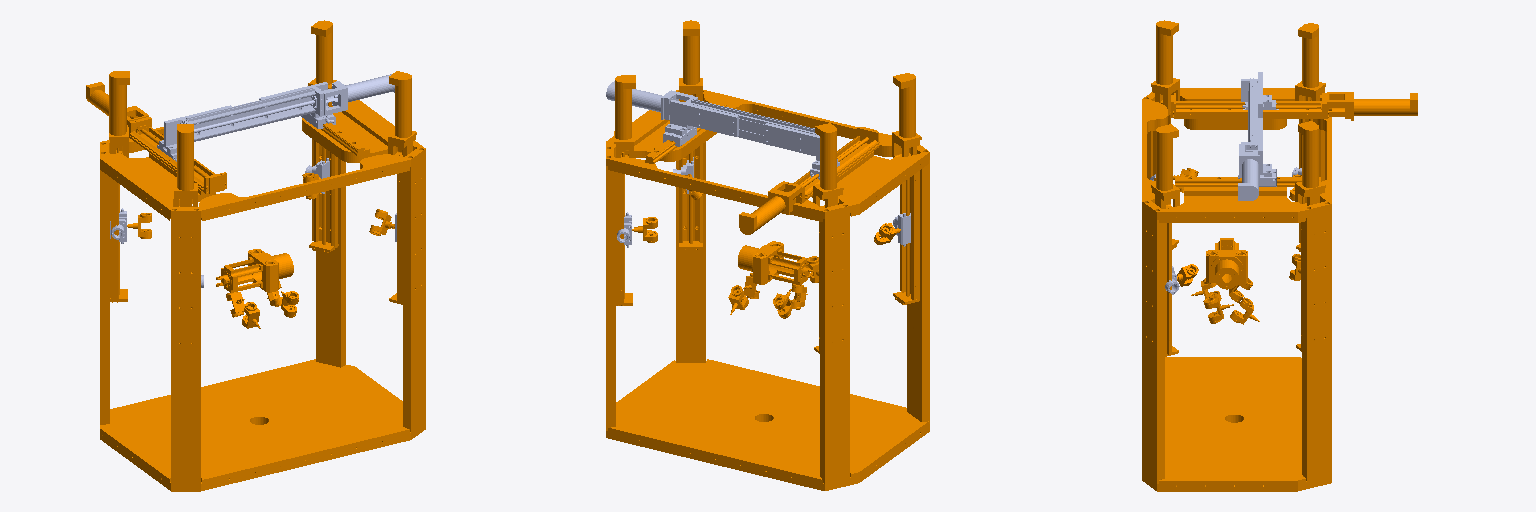
--- What the picture shows (computed from the rendered views, not written in the file) ---
3 views of the same robot in one strip: view 1: azimuth 30°, elevation 25°; view 2: azimuth 150°, elevation 25°; view 3: azimuth 270°, elevation 25° (orthographic).
Model Faraday with 29 links and 28 joints (10 revolute, 8 continuous, 7 prismatic, 3 fixed), rooted at world, posed all joints at 0.
Links seen in each view (by area): view 1: base_link, limb5_link1, limb5_link5; view 2: base_link, limb5_link1, limb5_link5; view 3: base_link, limb5_link1, limb5_link5.
Link boxes in pixels (x1,y1,x2,y2): base_link: (86, 20, 425, 491); limb5_link1: (157, 74, 394, 161); limb5_link5: (216, 249, 293, 292); base_link: (606, 20, 929, 490); limb5_link1: (606, 81, 839, 179); limb5_link5: (738, 241, 812, 284); base_link: (1142, 20, 1417, 491); limb5_link1: (1238, 72, 1278, 200); limb5_link5: (1206, 238, 1247, 289).
Bounding box of the posed robot: 0.6476 × 0.5666 × 0.8006 m (x, y, z).
15 mesh visuals loaded from 12 distinct referenced files (6 binary STL); not drawn: 12 (reference not matched to a file when rendering).

URDF robot description (Faraday):
<?xml version="1.0" ?>
<robot
  name="Faraday">

  <link name="world" />

  <joint name="world_to_base_link" type="fixed">
    <parent link="world"/>
    <child link="base_link"/>
    <origin xyz="0 -0.01553 0.604" rpy="3.141592654 0 0"/>
  </joint>

  <link
    name="base_link">
    <inertial>
      <origin
        xyz="-0.0065986 -0.032962 0.49853"
        rpy="0 0 0" />
      <mass
        value="12.551" />
      <inertia
        ixx="5.8372"
        ixy="-0.020361"
        ixz="-0.034318"
        iyy="6.0197"
        iyz="0.0069877"
        izz="0.44893" />
    </inertial>
    <visual>
      <origin
        xyz="0 0 0"
        rpy="0 0 0" />
      <geometry>
        <mesh
          filename="package://faraday_support/meshes/base_link.STL" />
      </geometry>
      <material
        name="">
        <color
          rgba="1 0.6 0 1" />
      </material>
    </visual>
    <collision>
      <origin
        xyz="0 0 0"
        rpy="0 0 0" />
      <geometry>
        <mesh
          filename="package://faraday_support/meshes/base_link.STL" />
      </geometry>
    </collision>
  </link>

<!-- !!!!!!!!!!!!!!!!!!!!!!!!!!!the limb1!!!!!!!!!!!!!!!!!!!!!!!!!!! -->
  <joint
    name="limb1_link1_joint"
    type="prismatic">
    <origin
      xyz="256.999999E-03 128.293085E-03 147.144575E-03"
      rpy="0 0 -0.523598775598299" />
    <parent
      link="base_link" />
    <child
      link="limb1_link1" />
    <axis
      xyz="0 0 1" />
    <limit
      lower="-116.3446E-03"
      upper="112.0554E-03"
      effort="0"
      velocity="0" />
  </joint>

  <link
    name="limb1_link1">
    <inertial>
      <origin
        xyz="-0.030335230E-03 -5.384161855E-03 0.114498889E-03"
        rpy="0 0 0" />
      <mass
        value="0.317239094" />
      <inertia
        ixx="122.332939099E-06"
        ixy="0.005927642E-06"
        ixz="-0.325801595E-06"
        iyy="127.383902955E-06"
        iyz="-0.022373613E-06"
        izz="61.480921161E-06" />
    </inertial>
    <visual>
      <origin
        xyz="0 0 0"
        rpy="0 0 0" />
      <geometry>
        <mesh
          filename="package://faraday_support/meshes/limb1_link1.STL" />
      </geometry>
      <material
        name="">
        <color
          rgba="0.79216 0.81961 0.93333 1" />
      </material>
    </visual>
    <collision>
      <origin
        xyz="0 0 0"
        rpy="0 0 0" />
      <geometry>
        <mesh
          filename="package://faraday_support/meshes/limb1_link1.STL" />
      </geometry>
    </collision>
  </link>

  <joint
    name="limb1_link2_joint"
    type="continuous">
    <origin
      xyz="0 -58.0E-03 0"
      rpy="-1.570796326794897 -0.896668139199843 3.141592653589793" />
    <parent
      link="limb1_link1" />
    <child
      link="limb1_link2" />
    <axis
      xyz="0 0 1" />
  </joint>

  <link
    name="limb1_link2">
    <inertial>
      <origin
        xyz="0 0 -7.175692738E-03"
        rpy="0 0 0" />
      <mass
        value="0.063268400" />
      <inertia
        ixx="20.615640235E-06"
        ixy="0"
        ixz="0"
        iyy="10.070601654E-06"
        iyz="0"
        izz="15.963087509E-06" />
    </inertial>
    <visual>
      <origin
        xyz="0 0 0"
        rpy="0 0 0" />
      <geometry>
        <mesh
          filename="package://faraday_support/meshes/limb1_link2.STL" />
      </geometry>
      <material
        name="">
        <color
          rgba="1 0.6 0 1" />
      </material>
    </visual>
    <collision>
      <origin
        xyz="0 0 0"
        rpy="0 0 0" />
      <geometry>
        <mesh
          filename="package://faraday_support/meshes/limb1_link2.STL" />
      </geometry>
    </collision>
  </link>

  <joint
    name="limb1_link3_joint"
    type="revolute">
    <origin
      xyz="0 0 0"
      rpy="-1.570796326794897 -1.011023857119764 3.141592653589793" />
    <parent
      link="limb1_link2" />
    <child
      link="limb1_link3" />
    <axis
      xyz="0 0 1" />
    <limit
      lower="-1.57"
      upper="1.57"
      effort="0"
      velocity="0" />
  </joint>

  <link
    name="limb1_link3">
    <inertial>
      <origin
        xyz="0 -101.508543691E-03 0"
        rpy="0 0 0" />
      <mass
        value="0.048981588" />
      <inertia
        ixx="283.193897053E-06"
        ixy="0"
        ixz="0"
        iyy="0.978504361E-06"
        iyz="0"
        izz="282.792129790E-06" />
    </inertial>
    <visual>
      <origin
        xyz="0 0 0"
        rpy="0 0 0" />
      <geometry>
        <mesh
          filename="package://faraday_support/meshes/limb1_link3.STL" />
      </geometry>
      <material
        name="">
        <color
          rgba="0.807843137254902 0.843137254901961 0.905882352941176 1" />
      </material>
    </visual>
    <collision>
      <origin
        xyz="0 0 0"
        rpy="0 0 0" />
      <geometry>
        <mesh
          filename="package://faraday_support/meshes/limb1_link3.STL" />
      </geometry>
    </collision>
  </link> 

  <joint
    name="limb1_link4_joint"
    type="continuous">
    <origin
      xyz="0 -246.0E-03 0"
      rpy="1.570796326794897 1.371521614119192 0" />
    <parent
      link="limb1_link3" />
    <child
      link="limb1_link4" />
    <axis
      xyz="0 0 1" />
  </joint>

  <link
    name="limb1_link4">
    <inertial>
      <origin
        xyz="0 0 -28.989992853E-03"
        rpy="0 0 0" />
      <mass
        value="0.043557642" />
      <inertia
        ixx="16.645965669E-06"
        ixy="0"
        ixz="0"
        iyy="16.244198406E-06"
        iyz="0"
        izz="2.976607171E-06" />
    </inertial>
    <visual>
      <origin
        xyz="0 0 0"
        rpy="0 0 0" />
      <geometry>
        <mesh
          filename="package://faraday_support/meshes/limb1_link4.STL" />
      </geometry>
      <material
        name="">
        <color
          rgba="0.807843137254902 0.843137254901961 0.905882352941176 1" />
      </material>
    </visual>
    <collision>
      <origin
        xyz="0 0 0"
        rpy="0 0 0" />
      <geometry>
        <mesh
          filename="package://faraday_support/meshes/limb1_link4.STL" />
      </geometry>
    </collision>
  </link>

  <joint
    name="limb1_link5_joint"
    type="revolute">
    <origin
      xyz="0 0 0"
      rpy="1.570796326794897 0.761825746520013 0" />
    <parent
      link="limb1_link4" />
    <child
      link="limb1_link5" />
    <axis
      xyz="0 0 1" />
    <limit
      lower="-1.57"
      upper="3.14"
      effort="0"
      velocity="0" />
  </joint>

  <link
    name="limb1_link5">
    <inertial>
      <origin
        xyz="0 5.927141064E-03 0"
        rpy="0 0 0" />
      <mass
        value="0.059458429" />
      <inertia
        ixx="18.846035620E-06"
        ixy="0"
        ixz="0"
        iyy="15.857290969E-06"
        iyz="0"
        izz="8.300960836E-06" />
    </inertial>
    <visual>
      <origin
        xyz="0 0 0"
        rpy="0 0 0" />
      <geometry>
        <mesh
          filename="package://faraday_support/meshes/limb1_link5.STL" />
      </geometry>
      <material
        name="">
        <color
          rgba="1 0.6 0 1" />
      </material>
    </visual>
    <collision>
      <origin
        xyz="0 0 0"
        rpy="0 0 0" />
      <geometry>
        <mesh
          filename="package://faraday_support/meshes/limb1_link5.STL" />
      </geometry>
    </collision>
  </link>


<!-- !!!!!!!!!!!!!!!!!!!!!!!!!!!the limb2!!!!!!!!!!!!!!!!!!!!!!!!!!! -->
  <joint
    name="limb2_link1_joint"
    type="prismatic">
    <origin
      xyz="243.823085E-03 -172.53E-03 145.659457E-03"
      rpy="0 0 -2.094395102393196" />
    <parent
      link="base_link" />
    <child
      link="limb2_link1" />
    <axis
      xyz="0 0 1" />
    <limit
      lower="-114.8595E-03"
      upper="123.5405E-03"
      effort="0"
      velocity="0" />
  </joint>

  <link
    name="limb2_link1">
    <inertial>
      <origin
        xyz="-0.030335230E-03 -5.384161855E-03 0.114498889E-03"
        rpy="0 0 0" />
      <mass
        value="0.317239094" />
      <inertia
        ixx="122.332939099E-06"
        ixy="0.005927642E-06"
        ixz="-0.325801595E-06"
        iyy="127.383902955E-06"
        iyz="-0.022373613E-06"
        izz="61.480921161E-06" />
    </inertial>
    <visual>
      <origin
        xyz="0 0 0"
        rpy="0 0 0" />
      <geometry>
        <mesh
          filename="package://faraday_support/meshes/limb1_link1.STL" />
      </geometry>
      <material
        name="">
        <color
          rgba="0.79216 0.81961 0.93333 1" />
      </material>
    </visual>
    <collision>
      <origin
        xyz="0 0 0"
        rpy="0 0 0" />
      <geometry>
        <mesh
          filename="package://faraday_support/meshes/limb1_link1.STL" />
      </geometry>
    </collision>
  </link>

  <joint
    name="limb2_link2_joint"
    type="continuous">
    <origin
      xyz="0 -58.0E-03 0"
      rpy="-1.570796326794897 -1.410784540972056 3.141592653589793" />
    <parent
      link="limb2_link1" />
    <child
      link="limb2_link2" />
    <axis
      xyz="0 0 1" />
  </joint>

  <link
    name="limb2_link2">
    <inertial>
      <origin
        xyz="0 0 -7.175692738E-03"
        rpy="0 0 0" />
      <mass
        value="0.063268400" />
      <inertia
        ixx="20.615640235E-06"
        ixy="0"
        ixz="0"
        iyy="10.070601654E-06"
        iyz="0"
        izz="15.963087509E-06" />
    </inertial>
    <visual>
      <origin
        xyz="0 0 0"
        rpy="0 0 0" />
      <geometry>
        <mesh
          filename="package://faraday_support/meshes/limb1_link2.STL" />
      </geometry>
      <material
        name="">
        <color
          rgba="1 0.6 0 1" />
      </material>
    </visual>
    <collision>
      <origin
        xyz="0 0 0"
        rpy="0 0 0" />
      <geometry>
        <mesh
          filename="package://faraday_support/meshes/limb1_link2.STL" />
      </geometry>
    </collision>
  </link>

  <joint
    name="limb2_link3_joint"
    type="revolute">
    <origin
      xyz="0 0 0"
      rpy="-1.570796326794897 -0.743264169925054 3.141592653589793" />
    <parent
      link="limb2_link2" />
    <child
      link="limb2_link3" />
    <axis
      xyz="0 0 1" />
    <limit
      lower="-1.57"
      upper="1.57"
      effort="0"
      velocity="0" />
  </joint>

  <link
    name="limb2_link3">
    <inertial>
      <origin
        xyz="0 -101.508543691E-03 0"
        rpy="0 0 0" />
      <mass
        value="0.048981588" />
      <inertia
        ixx="283.193897053E-06"
        ixy="0"
        ixz="0"
        iyy="0.978504361E-06"
        iyz="0"
        izz="282.792129790E-06" />
    </inertial>
    <visual>
      <origin
        xyz="0 0 0"
        rpy="0 0 0" />
      <geometry>
        <mesh
          filename="package://faraday_support/meshes/limb1_link3.STL" />
      </geometry>
      <material
        name="">
        <color
          rgba="0.807843137254902 0.843137254901961 0.905882352941176 1" />
      </material>
    </visual>
    <collision>
      <origin
        xyz="0 0 0"
        rpy="0 0 0" />
      <geometry>
        <mesh
          filename="package://faraday_support/meshes/limb1_link3.STL" />
      </geometry>
    </collision>
  </link> 

  <joint
    name="limb2_link4_joint"
    type="continuous">
    <origin
      xyz="0 -246.0E-03 0"
      rpy="1.570796326794897 -0.653447781288173 0" />
    <parent
      link="limb2_link3" />
    <child
      link="limb2_link4" />
    <axis
      xyz="0 0 1" />
  </joint>

  <link
    name="limb2_link4">
    <inertial>
      <origin
        xyz="0 0 -28.989992853E-03"
        rpy="0 0 0" />
      <mass
        value="0.043557642" />
      <inertia
        ixx="16.645965669E-06"
        ixy="0"
        ixz="0"
        iyy="16.244198406E-06"
        iyz="0"
        izz="2.976607171E-06" />
    </inertial>
    <visual>
      <origin
        xyz="0 0 0"
        rpy="0 0 0" />
      <geometry>
        <mesh
          filename="package://faraday_support/meshes/limb1_link4.STL" />
      </geometry>
      <material
        name="">
        <color
          rgba="0.807843137254902 0.843137254901961 0.905882352941176 1" />
      </material>
    </visual>
    <collision>
      <origin
        xyz="0 0 0"
        rpy="0 0 0" />
      <geometry>
        <mesh
          filename="package://faraday_support/meshes/limb1_link4.STL" />
      </geometry>
    </collision>
  </link>

  <joint
    name="limb2_link5_joint"
    type="revolute">
    <origin
      xyz="0 0 0"
      rpy="1.570796326794897 0.947500853664178 0" />
    <parent
      link="limb2_link4" />
    <child
      link="limb2_link5" />
    <axis
      xyz="0 0 1" />
    <limit
      lower="-1.57"
      upper="3.14"
      effort="0"
      velocity="0" />
  </joint>

  <link
    name="limb2_link5">
    <inertial>
      <origin
        xyz="0 5.927141064E-03 0"
        rpy="0 0 0" />
      <mass
        value="0.059458429" />
      <inertia
        ixx="18.846035620E-06"
        ixy="0"
        ixz="0"
        iyy="15.857290969E-06"
        iyz="0"
        izz="8.300960836E-06" />
    </inertial>
    <visual>
      <origin
        xyz="0 0 0"
        rpy="0 0 0" />
      <geometry>
        <mesh
          filename="package://faraday_support/meshes/limb1_link5.STL" />
      </geometry>
      <material
        name="">
        <color
          rgba="1 0.6 0 1" />
      </material>
    </visual>
    <collision>
      <origin
        xyz="0 0 0"
        rpy="0 0 0" />
      <geometry>
        <mesh
          filename="package://faraday_support/meshes/limb1_link5.STL" />
      </geometry>
    </collision>
  </link>  


<!-- !!!!!!!!!!!!!!!!!!!!!!!!!!!the limb3!!!!!!!!!!!!!!!!!!!!!!!!!!! -->
  <joint
    name="limb3_link1_joint"
    type="prismatic">
    <origin
      xyz="-243.823085E-03 -172.53E-03 145.659457E-03"
      rpy="0 0 2.094395102393196" />
    <parent
      link="base_link" />
    <child
      link="limb3_link1" />
    <axis
      xyz="0 0 1" />
    <limit
      lower="-114.8595E-03"
      upper="123.5405E-03"
      effort="0"
      velocity="0" />
  </joint>

  <link
    name="limb3_link1">
    <inertial>
      <origin
        xyz="-0.030335230E-03 -5.384161855E-03 0.114498889E-03"
        rpy="0 0 0" />
      <mass
        value="0.317239094" />
      <inertia
        ixx="122.332939099E-06"
        ixy="0.005927642E-06"
        ixz="-0.325801595E-06"
        iyy="127.383902955E-06"
        iyz="-0.022373613E-06"
        izz="61.480921161E-06" />
    </inertial>
    <visual>
      <origin
        xyz="0 0 0"
        rpy="0 0 0" />
      <geometry>
        <mesh
          filename="package://faraday_support/meshes/limb1_link1.STL" />
      </geometry>
      <material
        name="">
        <color
          rgba="0.79216 0.81961 0.93333 1" />
      </material>
    </visual>
    <collision>
      <origin
        xyz="0 0 0"
        rpy="0 0 0" />
      <geometry>
        <mesh
          filename="package://faraday_support/meshes/limb1_link1.STL" />
      </geometry>
    </collision>
  </link>

  <joint
    name="limb3_link2_joint"
    type="continuous">
    <origin
      xyz="0 -58.0E-03 0"
      rpy="1.570796326794897 -1.410784540972056 0" />
    <parent
      link="limb3_link1" />
    <child
      link="limb3_link2" />
    <axis
      xyz="0 0 1" />
  </joint>

  <link
    name="limb3_link2">
    <inertial>
      <origin
        xyz="0 0 -7.175692738E-03"
        rpy="0 0 0" />
      <mass
        value="0.063268400" />
      <inertia
        ixx="20.615640235E-06"
        ixy="0"
        ixz="0"
        iyy="10.070601654E-06"
        iyz="0"
        izz="15.963087509E-06" />
    </inertial>
    <visual>
      <origin
        xyz="0 0 0"
        rpy="0 0 0" />
      <geometry>
        <mesh
          filename="package://faraday_support/meshes/limb1_link2.STL" />
      </geometry>
      <material
        name="">
        <color
          rgba="1 0.6 0 1" />
      </material>
    </visual>
    <collision>
      <origin
        xyz="0 0 0"
        rpy="0 0 0" />
      <geometry>
        <mesh
          filename="package://faraday_support/meshes/limb1_link2.STL" />
      </geometry>
    </collision>
  </link>

  <joint
    name="limb3_link3_joint"
    type="revolute">
    <origin
      xyz="0 0 0"
      rpy="-1.570796326794897 -0.743264169925054 3.141592653589793" />
    <parent
      link="limb3_link2" />
    <child
      link="limb3_link3" />
    <axis
      xyz="0 0 1" />
    <limit
      lower="-1.57"
      upper="1.57"
      effort="0"
      velocity="0" />
  </joint>

  <link
    name="limb3_link3">
    <inertial>
      <origin
        xyz="0 -101.508543691E-03 0"
        rpy="0 0 0" />
      <mass
        value="0.048981588" />
      <inertia
        ixx="283.193897053E-06"
        ixy="0"
        ixz="0"
        iyy="0.978504361E-06"
        iyz="0"
        izz="282.792129790E-06" />
    </inertial>
    <visual>
      <origin
        xyz="0 0 0"
        rpy="0 0 0" />
      <geometry>
        <mesh
          filename="package://faraday_support/meshes/limb1_link3.STL" />
      </geometry>
      <material
        name="">
        <color
          rgba="0.807843137254902 0.843137254901961 0.905882352941176 1" />
      </material>
    </visual>
    <collision>
      <origin
        xyz="0 0 0"
        rpy="0 0 0" />
      <geometry>
        <mesh
          filename="package://faraday_support/meshes/limb1_link3.STL" />
      </geometry>
    </collision>
  </link> 

  <joint
    name="limb3_link4_joint"
    type="continuous">
    <origin
      xyz="0 -246.0E-03 0"
      rpy="1.570796326794897 0.653447781288173 0" />
    <parent
      link="limb3_link3" />
    <child
      link="limb3_link4" />
    <axis
      xyz="0 0 1" />
  </joint>

  <link
    name="limb3_link4">
    <inertial>
      <origin
        xyz="0 0 -28.989992853E-03"
        rpy="0 0 0" />
      <mass
        value="0.043557642" />
      <inertia
        ixx="16.645965669E-06"
        ixy="0"
        ixz="0"
        iyy="16.244198406E-06"
        iyz="0"
        izz="2.976607171E-06" />
    </inertial>
    <visual>
      <origin
        xyz="0 0 0"
        rpy="0 0 0" />
      <geometry>
        <mesh
          filename="package://faraday_support/meshes/limb1_link4.STL" />
      </geometry>
      <material
        name="">
        <color
          rgba="0.807843137254902 0.843137254901961 0.905882352941176 1" />
      </material>
    </visual>
    <collision>
      <origin
        xyz="0 0 0"
        rpy="0 0 0" />
      <geometry>
        <mesh
          filename="package://faraday_support/meshes/limb1_link4.STL" />
      </geometry>
    </collision>
  </link>

  <joint
    name="limb3_link5_joint"
    type="revolute">
    <origin
      xyz="0 0 0"
      rpy="1.570796326794897 0.947500853664178 0" />
    <parent
      link="limb3_link4" />
    <child
      link="limb3_link5" />
    <axis
      xyz="0 0 1" />
    <limit
      lower="-1.57"
      upper="3.14"
      effort="0"
      velocity="0" />
  </joint>

  <link
    name="limb3_link5">
    <inertial>
      <origin
        xyz="0 5.927141064E-03 0"
        rpy="0 0 0" />
      <mass
        value="0.059458429" />
      <inertia
        ixx="18.846035620E-06"
        ixy="0"
        ixz="0"
        iyy="15.857290969E-06"
        iyz="0"
        izz="8.300960836E-06" />
    </inertial>
    <visual>
      <origin
        xyz="0 0 0"
        rpy="0 0 0" />
      <geometry>
        <mesh
          filename="package://faraday_support/meshes/limb1_link5.STL" />
      </geometry>
      <material
        name="">
        <color
          rgba="1 0.6 0 1" />
      </material>
    </visual>
    <collision>
      <origin
        xyz="0 0 0"
        rpy="0 0 0" />
      <geometry>
        <mesh
          filename="package://faraday_support/meshes/limb1_link5.STL" />
      </geometry>
    </collision>
  </link>


<!-- !!!!!!!!!!!!!!!!!!!!!!!!!!!the limb4!!!!!!!!!!!!!!!!!!!!!!!!!!! -->
  <joint
    name="limb4_link1_joint"
    type="prismatic">
    <origin
      xyz="-256.999999E-03 128.293085E-03 147.144575E-03"
      rpy="0 0 0.523598775598299" />
    <parent
      link="base_link" />
    <child
      link="limb4_link1" />
    <axis
      xyz="0 0 1" />
    <limit
      lower="-116.3446E-03"
      upper="112.0554E-03"
      effort="0"
      velocity="0" />
  </joint>

  <link
    name="limb4_link1">
    <inertial>
      <origin
        xyz="-0.030335230E-03 -5.384161855E-03 0.114498889E-03"
        rpy="0 0 0" />
      <mass
        value="0.317239094" />
      <inertia
        ixx="122.332939099E-06"
        ixy="0.005927642E-06"
        ixz="-0.325801595E-06"
        iyy="127.383902955E-06"
        iyz="-0.022373613E-06"
        izz="61.480921161E-06" />
    </inertial>
    <visual>
      <origin
        xyz="0 0 0"
        rpy="0 0 0" />
      <geometry>
        <mesh
          filename="package://faraday_support/meshes/limb1_link1.STL" />
      </geometry>
      <material
        name="">
        <color
          rgba="0.79216 0.81961 0.93333 1" />
      </material>
    </visual>
    <collision>
      <origin
        xyz="0 0 0"
        rpy="0 0 0" />
      <geometry>
        <mesh
          filename="package://faraday_support/meshes/limb1_link1.STL" />
      </geometry>
    </collision>
  </link>

  <joint
    name="limb4_link2_joint"
    type="continuous">
    <origin
      xyz="0 -58.0E-03 0"
      rpy="1.570796326794897 -0.896668139199843 0" />
    <parent
      link="limb4_link1" />
    <child
      link="limb4_link2" />
    <axis
      xyz="0 0 1" />
  </joint>

  <link
    name="limb4_link2">
    <inertial>
      <origin
        xyz="0 0 -7.175692738E-03"
        rpy="0 0 0" />
      <mass
        value="0.063268400" />
      <inertia
        ixx="20.615640235E-06"
        ixy="0"
        ixz="0"
        iyy="10.070601654E-06"
        iyz="0"
        izz="15.963087509E-06" />
    </inertial>
    <visual>
      <origin
        xyz="0 0 0"
        rpy="0 0 0" />
      <geometry>
        <mesh
          filename="package://faraday_support/meshes/limb1_link2.STL" />
      </geometry>
      <material
        name="">
        <color
          rgba="1 0.6 0 1" />
      </material>
    </visual>
    <collision>
      <origin
        xyz="0 0 0"
        rpy="0 0 0" />
      <geometry>
        <mesh
          filename="package://faraday_support/meshes/limb1_link2.STL" />
      </geometry>
    </collision>
  </link>

  <joint
    name="limb4_link3_joint"
    type="revolute">
    <origin
      xyz="0 0 0"
      rpy="-1.570796326794897 -1.011023857119764 3.141592653589793" />
    <parent
      link="limb4_link2" />
    <child
      link="limb4_link3" />
    <axis
      xyz="0 0 1" />
    <limit
      lower="-1.57"
      upper="1.57"
      effort="0"
      velocity="0" />
  </joint>

  <link
    name="limb4_link3">
    <inertial>
      <origin
        xyz="0 -101.508543691E-03 0"
        rpy="0 0 0" />
      <mass
        value="0.048981588" />
      <inertia
        ixx="283.193897053E-06"
        ixy="0"
        ixz="0"
        iyy="0.978504361E-06"
        iyz="0"
        izz="282.792129790E-06" />
    </inertial>
    <visual>
      <origin
        xyz="0 0 0"
        rpy="0 0 0" />
      <geometry>
        <mesh
          filename="package://faraday_support/meshes/limb1_link3.STL" />
      </geometry>
      <material
        name="">
        <color
          rgba="0.807843137254902 0.843137254901961 0.905882352941176 1" />
      </material>
    </visual>
    <collision>
      <origin
        xyz="0 0 0"
        rpy="0 0 0" />
      <geometry>
        <mesh
          filename="package://faraday_support/meshes/limb1_link3.STL" />
      </geometry>
    </collision>
  </link> 

  <joint
    name="limb4_link4_joint"
    type="continuous">
    <origin
      xyz="0 -246.0E-03 0"
      rpy="1.570796326794897 -1.371521614119192 0" />
    <parent
      link="limb4_link3" />
    <child
      link="limb4_link4" />
    <axis
      xyz="0 0 1" />
  </joint>

  <link
    name="limb4_link4">
    <inertial>
      <origin
        xyz="0 0 -28.989992853E-03"
        rpy="0 0 0" />
      <mass
        value="0.043557642" />
      <inertia
        ixx="16.645965669E-06"
        ixy="0"
        ixz="0"
        iyy="16.244198406E-06"
        iyz="0"
        izz="2.976607171E-06" />
    </inertial>
    <visual>
      <origin
        xyz="0 0 0"
        rpy="0 0 0" />
      <geometry>
        <mesh
          filename="package://faraday_support/meshes/limb1_link4.STL" />
      </geometry>
      <material
        name="">
        <color
          rgba="0.807843137254902 0.843137254901961 0.905882352941176 1" />
      </material>
    </visual>
    <collision>
      <origin
        xyz="0 0 0"
        rpy="0 0 0" />
      <geometry>
        <mesh
          filename="package://faraday_support/meshes/limb1_link4.STL" />
      </geometry>
    </collision>
  </link>

  <joint
    name="limb4_link5_joint"
    type="revolute">
    <origin
      xyz="0 0 0"
      rpy="1.570796326794897 0.761825746520013 0" />
    <parent
      link="limb4_link4" />
    <child
      link="limb4_link5" />
    <axis
      xyz="0 0 1" />
    <limit
      lower="-1.57"
      upper="3.14"
      effort="0"
      velocity="0" />
  </joint>

  <link
    name="limb4_link5">
    <inertial>
      <origin
        xyz="0 5.927141064E-03 0"
        rpy="0 0 0" />
      <mass
        value="0.059458429" />
      <inertia
        ixx="18.846035620E-06"
        ixy="0"
        ixz="0"
        iyy="15.857290969E-06"
        iyz="0"
        izz="8.300960836E-06" />
    </inertial>
    <visual>
      <origin
        xyz="0 0 0"
        rpy="0 0 0" />
      <geometry>
        <mesh
          filename="package://faraday_support/meshes/limb1_link5.STL" />
      </geometry>
      <material
        name="">
        <color
          rgba="1 0.6 0 1" />
      </material>
    </visual>
    <collision>
      <origin
        xyz="0 0 0"
        rpy="0 0 0" />
      <geometry>
        <mesh
          filename="package://faraday_support/meshes/limb1_link5.STL" />
      </geometry>
    </collision>
  </link>  
  

<!-- !!!!!!!!!!!!!!!!!!!!!!!!limb5!!!!!!!!!!!!!!!!!!!!!!!!!!! -->
  <joint
    name="limb5_link1_joint"
    type="prismatic">
    <origin
      xyz="-175E-03 -69E-03 -46E-03"
      rpy="-1.570796326794897 1.570796326794897 0" />
    <parent
      link="base_link" />
    <child
      link="limb5_link1" />
    <axis
      xyz="0 0 1" />
    <limit
      lower="-74.73E-03"
      upper="163.67E-03"
      effort="0"
      velocity="0" />
  </joint>

  <link
    name="limb5_link1">
    <inertial>
      <origin
        xyz="39.923426771E-03 -272.230174647E-03 -7.742022410E-03"
        rpy="0 0 0" />
      <mass
        value="3.924530231" />
      <inertia
        ixx="102738.340951455E-06"
        ixy="-1894.575417592E-06"
        ixz="417.662702993E-06"
        iyy="2619.798959665E-06"
        iyz="-3027.568909992E-06"
        izz="103747.497534297E-06" />
    </inertial>
    <visual>
      <origin
        xyz="0 0 0"
        rpy="0 0 0" />
      <geometry>
        <mesh
          filename="package://faraday_support/meshes/limb5_link1.STL" />
      </geometry>
      <material
        name="">
        <color
          rgba="0.79216 0.81961 0.93333 1" />
      </material>
    </visual>
    <collision>
      <origin
        xyz="0 0 0"
        rpy="0 0 0" />
      <geometry>
        <mesh
          filename="package://faraday_support/meshes/limb5_link1.STL" />
      </geometry>
    </collision>
  </link>

  <joint
    name="limb5_link2_joint"
    type="prismatic">
    <origin
      xyz="47.5E-03 -175E-03 0"
      rpy="1.570796326794897 -1.570796326794897 0" />
    <parent
      link="limb5_link1" />
    <child
      link="limb5_link2" />
    <axis
      xyz="0 0 1" />
    <limit
      lower="-119.2E-03"
      upper="119.2E-03"
      effort="0"
      velocity="0" />
  </joint>

  <link
    name="limb5_link2">
    <inertial>
      <origin
        xyz="30.470732749E-03 -51.432760241E-03 -0.386936280E-03"
        rpy="0 0 0" />
      <mass
        value="3.150877503" />
      <inertia
        ixx="67781.063742233E-06"
        ixy="-1958.092220321E-06"
        ixz="-0.920034342E-06"
        iyy="1174.517606162E-06"
        iyz="-145.845128068E-06"
        izz="67683.505348463E-06" />
    </inertial>
    <visual>
      <origin
        xyz="0 0 0"
        rpy="0 0 0" />
      <geometry>
        <mesh
          filename="package://faraday_support/meshes/limb5_link2.STL" />
      </geometry>
      <material
        name="">
        <color
          rgba="0.79216 0.81961 0.93333 1" />
      </material>
    </visual>
    <collision>
      <origin
        xyz="0 0 0"
        rpy="0 0 0" />
      <geometry>
        <mesh
          filename="package://faraday_support/meshes/limb5_link2.STL" />
      </geometry>
    </collision>
  </link>

  <joint
    name="limb5_link3_joint"
    type="prismatic">
    <origin
      xyz="36E-03 327.5E-03 0"
      rpy="-1.570796326794897 1.570796326794897 0" />
    <parent
      link="limb5_link2" />
    <child
      link="limb5_link3" />
    <axis
      xyz="0 0 1" />
    <limit
      lower="-111.7E-03"
      upper="188.3E-03"
      effort="0"
      velocity="0" />
  </joint>

  <link
    name="limb5_link3">
    <inertial>
      <origin
        xyz="-0.023813454E-03 -12.223769501E-03 -221.657972675E-03"
        rpy="0 0 0" />
      <mass
        value="0.404102339" />
      <inertia
        ixx="2880.706391643E-06"
        ixy="-0.059802380E-06"
        ixz="0.090166381E-06"
        iyy="2819.789309333E-06"
        iyz="-362.906597200E-06"
        izz="124.577413525E-06" />
    </inertial>
    <visual>
      <origin
        xyz="0 0 0"
        rpy="0 0 0" />
      <geometry>
        <mesh
          filename="package://faraday_support/meshes/limb5_link3.STL" />
      </geometry>
      <material
        name="">
        <color
          rgba="0.79216 0.81961 0.93333 1" />
      </material>
    </visual>
    <collision>
      <origin
        xyz="0 0 0"
        rpy="0 0 0" />
      <geometry>
        <mesh
          filename="package://faraday_support/meshes/limb5_link3.STL" />
      </geometry>
    </collision>
  </link>
  
  <joint
    name="limb5_link4_joint"
    type="revolute">
    <origin
      xyz="0 -33.0E-03 0"
      rpy="1.570796326794897 1.570796326794897 0" />
    <parent
      link="limb5_link3" />
    <child
      link="limb5_link4" />
    <axis
      xyz="0 0 1" />
    <limit
      lower="-1.75"
      upper="1.75"
      effort="0"
      velocity="0" />
  </joint>

  <link
    name="limb5_link4">
    <inertial>
      <origin
        xyz="0 0 0"
        rpy="0 0 0" />
      <mass
        value="0.017073844" />
      <inertia
        ixx="0.564166131E-06"
        ixy="0"
        ixz="0"
        iyy="0.452429837E-06"
        iyz="0"
        izz="0.452429837E-06" />
    </inertial>
    <visual>
      <origin
        xyz="0 0 0"
        rpy="0 0 0" />
      <geometry>
        <mesh
          filename="package://faraday_support/meshes/limb5_link4.STL" />
      </geometry>
      <material
        name="">
        <color
          rgba="0.80784 0.84314 0.90588 1" />
      </material>
    </visual>
    <collision>
      <origin
        xyz="0 0 0"
        rpy="0 0 0" />
      <geometry>
        <mesh
          filename="package://faraday_support/meshes/limb5_link4.STL" />
      </geometry>
    </collision>
  </link>


<!-- !!!!!!!!!!!!!!!!!!!!moveing platform!!!!!!!!!!!!!!!!!!!! -->
  <joint
    name="limb5_link5_joint"
    type="revolute">
    <origin
      xyz="0 0 0"
      rpy="1.570796326794897 0 0" />
    <parent
      link="limb5_link4" />
    <child
      link="limb5_link5" />
    <axis
      xyz="0 0 1" />
    <limit
      lower="-1.75"
      upper="1.75"
      effort="0"
      velocity="0" />
  </joint>

  <link
    name="limb5_link5">
    <inertial>
      <origin
        xyz="-64.336919702E-03 -0.001738793E-03 -0.000004541E-03"
        rpy="0 0 0" />
      <mass
        value="0.326871517" />
      <inertia
        ixx="319.891964986E-06"
        ixy="0.009746544E-06"
        ixz="-0.000079682E-06"
        iyy="292.677835661E-06"
        iyz="0.000101704E-06"
        izz="396.160131888E-06" />
    </inertial>
    <visual>
      <origin
        xyz="0 0 0"
        rpy="0 0 0" />
      <geometry>
        <mesh
          filename="package://faraday_support/meshes/move_platform.STL" />
      </geometry>
      <material
        name="">
        <color
          rgba="1 0.6 0 1" />
      </material>
    </visual>
    <collision>
      <origin
        xyz="0 0 0"
        rpy="0 0 0" />
      <geometry>
        <mesh
          filename="package://faraday_support/meshes/move_platform.STL" />
      </geometry>
    </collision>
  </link>

  <joint name="move_platform_joint" type="fixed">
    <parent link="limb5_link5"/>
    <child link="move_platform"/>
    <origin xyz="-0.076 0 0" rpy="0 -1.570796326794897 0"/>
  </joint>

  <link name="move_platform" />

  <joint
    name="motor_spindle_joint"
    type="fixed">
    <origin
      xyz="0 0 0.092"
      rpy="0 0 0" />
    <parent
      link="move_platform" />
    <child
      link="motor_spindle" />
    <axis
      xyz="0 0 1" />
  </joint>

  <link
    name="motor_spindle">
    <inertial>
      <origin
        xyz="0 0 -76.612970925E-03"
        rpy="0 0 0" />
      <mass
        value="1.126447511" />
      <inertia
        ixx="1083.714357735E-06"
        ixy="0"
        ixz="0"
        iyy="1082.159761895E-06"
        iyz="0"
        izz="267.539044505E-06" />
    </inertial>
    <visual>
      <origin
        xyz="0 0 0"
        rpy="0 0 0" />
      <geometry>
        <mesh
          filename="package://faraday_support/meshes/motor_spindle.STL" />
      </geometry>
      <material
        name="">
        <color
          rgba="0 0.6 0 1" />
      </material>
    </visual>
    <collision>
      <origin
        xyz="0 0 0"
        rpy="0 0 0" />
      <geometry>
        <mesh
          filename="package://faraday_support/meshes/motor_spindle.STL" />
      </geometry>
    </collision>
  </link>


</robot>
